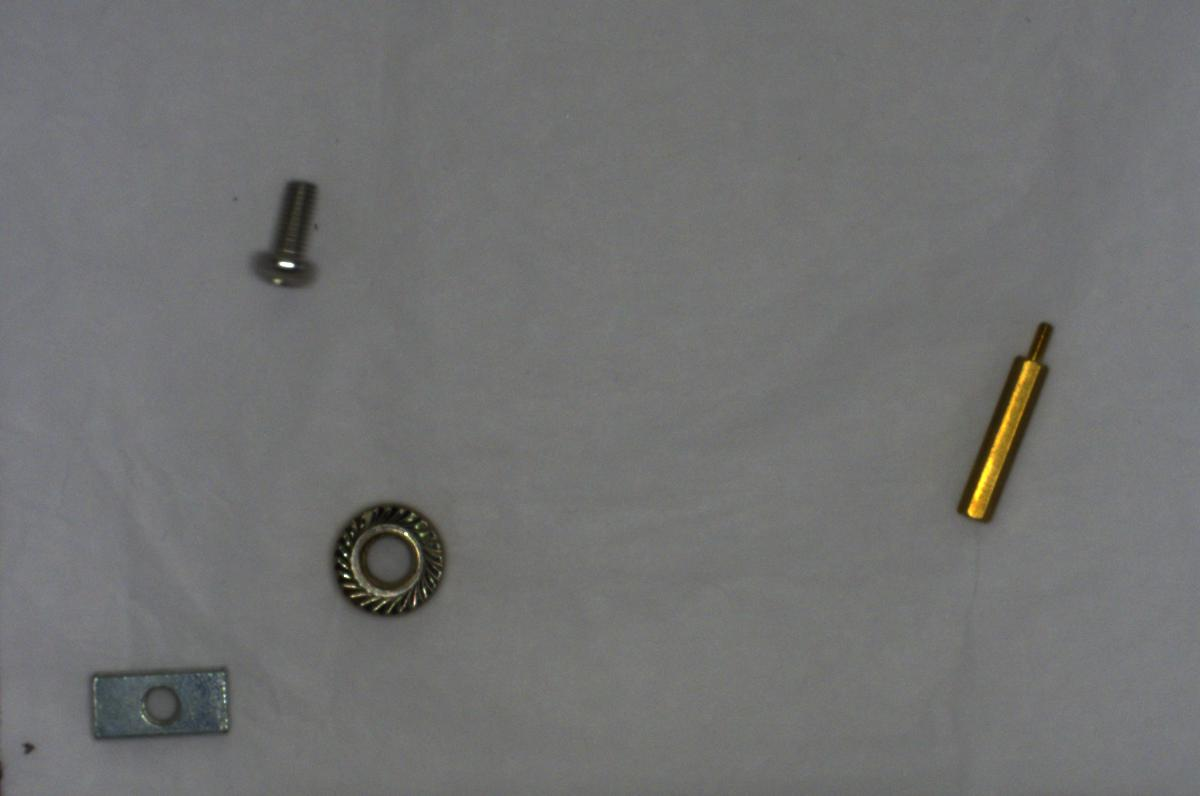Flange nut: (324, 494, 450, 620)
Hexagon pillar: (940, 313, 1072, 525)
Rectangular nut: (87, 655, 235, 749)
Round head screw: (250, 173, 322, 293)
